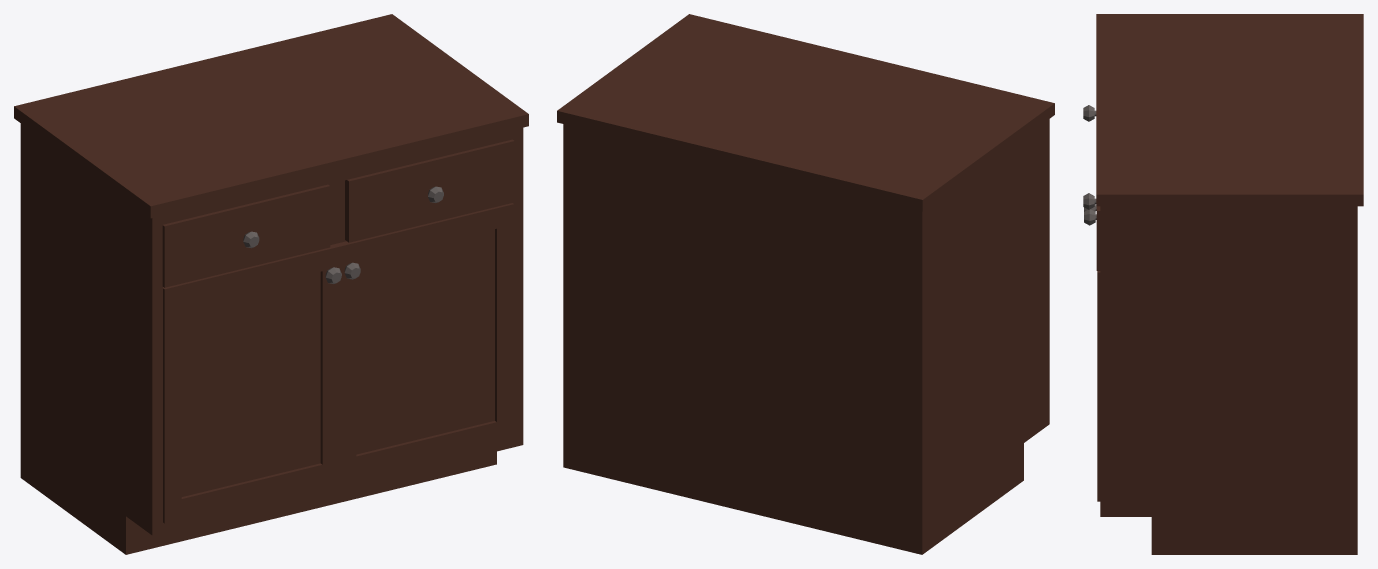
File: DrawersDoubleDoorBaseCabinet1.glb
The picture shows the model from 3 angles, left to right: view 1: azimuth 30°, elevation 25°; view 2: azimuth 150°, elevation 25°; view 3: azimuth 270°, elevation 25°; orthographic projection. The views are drawn at different scales.
Visible parts, largest first — view 1: DrawersDoubleDoorbaseCabinet1, DoorR1SingleDoorbaseCabinet1, DoorL1SingleDoorbaseCabinet1, Drawer2DrawersDoubleDoorbaseCabinet1, Drawer1DrawersDoubleDoorbaseCabinet1; view 2: DrawersDoubleDoorbaseCabinet1; view 3: DrawersDoubleDoorbaseCabinet1, DoorL1SingleDoorbaseCabinet1, Drawer2DrawersDoubleDoorbaseCabinet1.
Part boxes in pixels (x1,y1,x2,y2): DrawersDoubleDoorbaseCabinet1: (14,14,528,554); DoorR1SingleDoorbaseCabinet1: (163,244,341,523); DoorL1SingleDoorbaseCabinet1: (336,203,513,480); Drawer2DrawersDoubleDoorbaseCabinet1: (345,139,514,242); Drawer1DrawersDoubleDoorbaseCabinet1: (162,184,330,287); DrawersDoubleDoorbaseCabinet1: (557,14,1054,554); DrawersDoubleDoorbaseCabinet1: (1096,14,1363,554); DoorL1SingleDoorbaseCabinet1: (1084,209,1100,501); Drawer2DrawersDoubleDoorbaseCabinet1: (1083,193,1100,270).
Size of the model in its own units: 0.9707 by 0.9081 by 0.6376.
